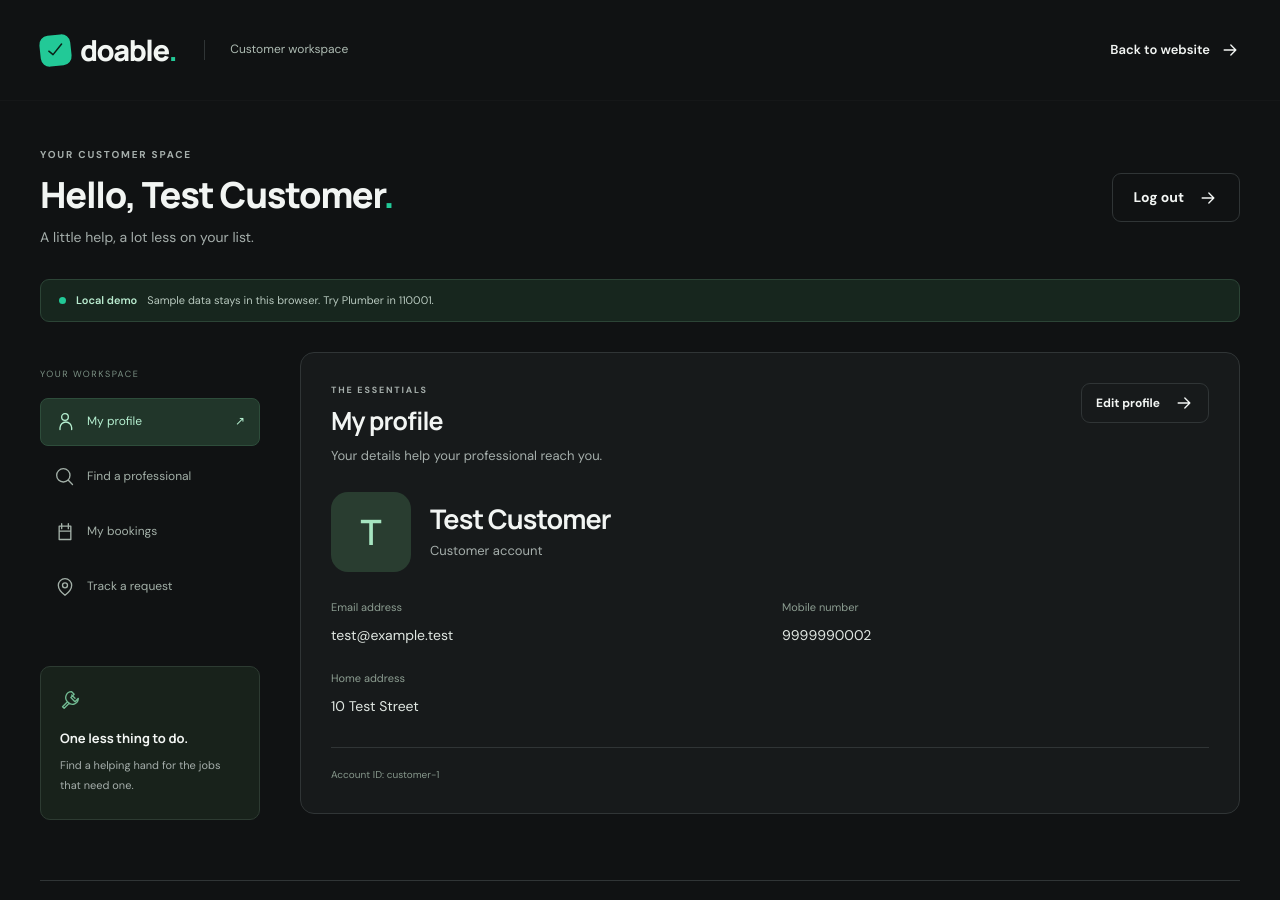
Test: demo edit profile explains password limitation and has no password submission
Click the button "Edit profile" at [1145, 403], box x1=1081 y1=383 x2=1209 y2=423
(page scrolled)
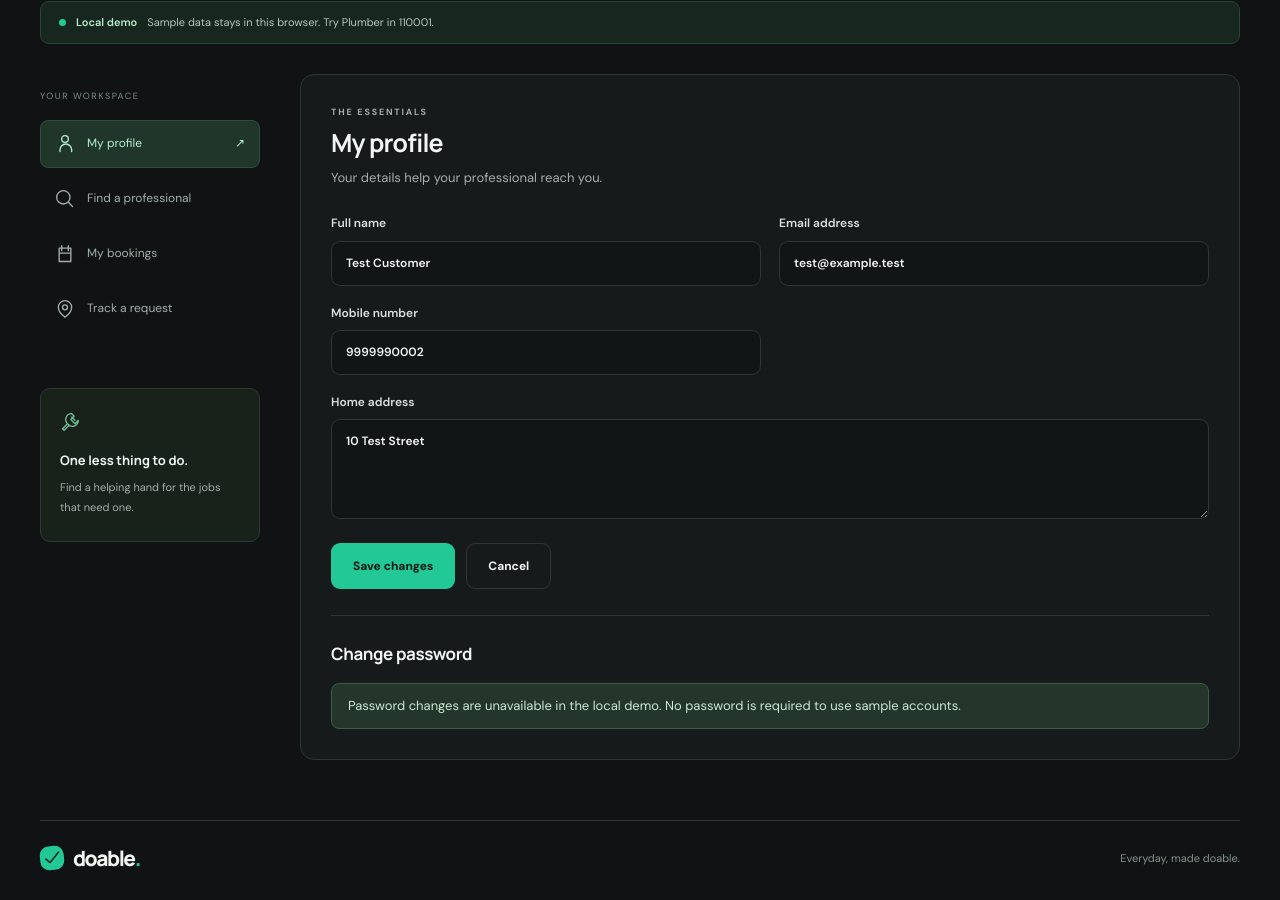
Expected: the text "Password changes are unavailable in the local demo" is shown, x1=348 y1=697 x2=961 y2=714
